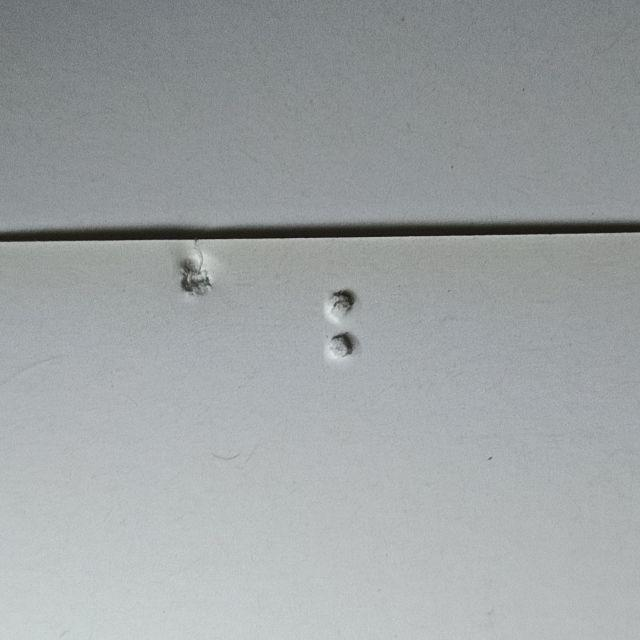bakit: (325, 290, 393, 401)
